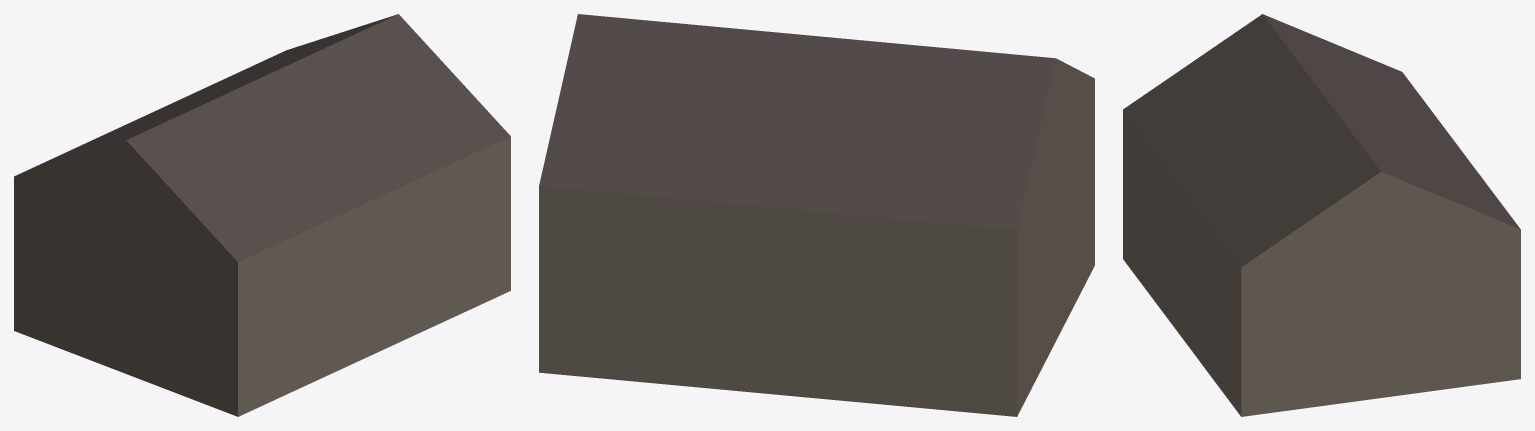
The picture shows the model from 3 angles, left to right: view 1: azimuth 30°, elevation 25°; view 2: azimuth 150°, elevation 25°; view 3: azimuth 270°, elevation 25°; orthographic projection. The views are drawn at different scales.
Parts seen in each view (by area): view 1: HP-w435452350; view 2: HP-w435452350; view 3: HP-w435452350.
Part boxes in pixels (x1,y1,x2,y2): HP-w435452350: (14,14,510,416); HP-w435452350: (539,14,1094,416); HP-w435452350: (1123,14,1520,416).
Bounding box in the file's own units: 16.83 × 9.08 × 14.47.
